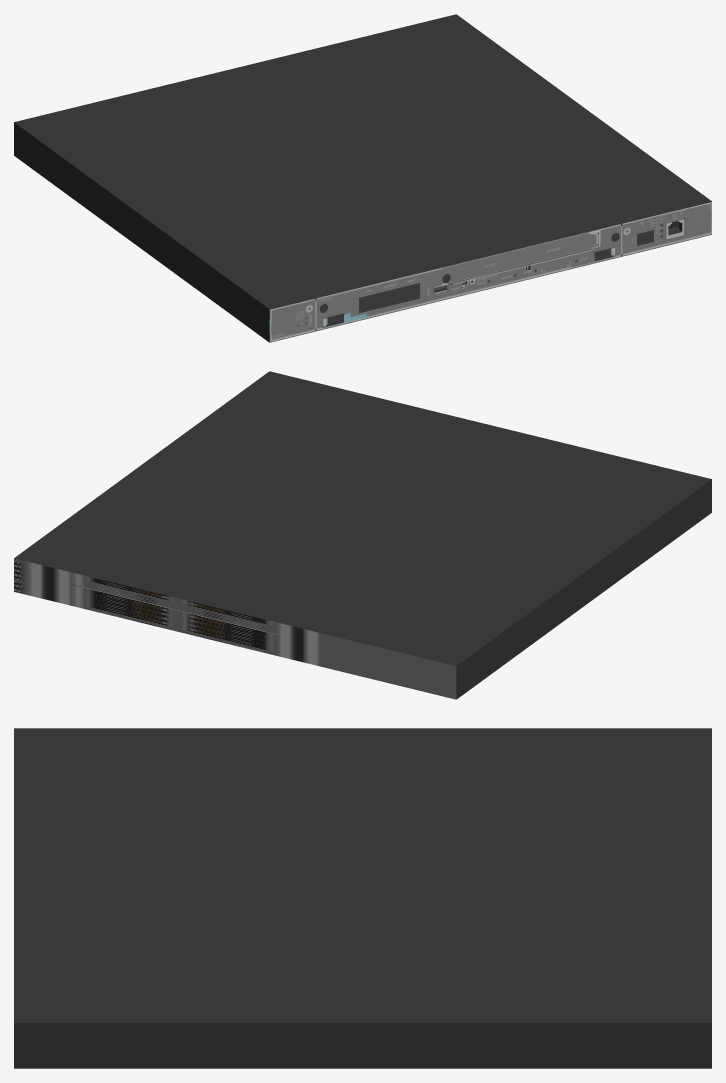
The picture shows the model from 3 angles, top to bottom: view 1: azimuth 30°, elevation 25°; view 2: azimuth 150°, elevation 25°; view 3: azimuth 270°, elevation 25°; orthographic projection. The views are drawn at different scales.
Parts seen in each view (by area): view 1: _G-Object.200 (Loose Mesh); view 2: _G-Object.200 (Loose Mesh); view 3: _G-Object.200 (Loose Mesh).
Boxes of the visible parts, x1,y1,x2,y2 form: _G-Object.200 (Loose Mesh): (14, 14, 711, 342); _G-Object.200 (Loose Mesh): (14, 371, 711, 699); _G-Object.200 (Loose Mesh): (14, 728, 711, 1068).
Size of the model in its own units: 40.05 by 2.9 by 40.07.
2 materials, 1 textured.
